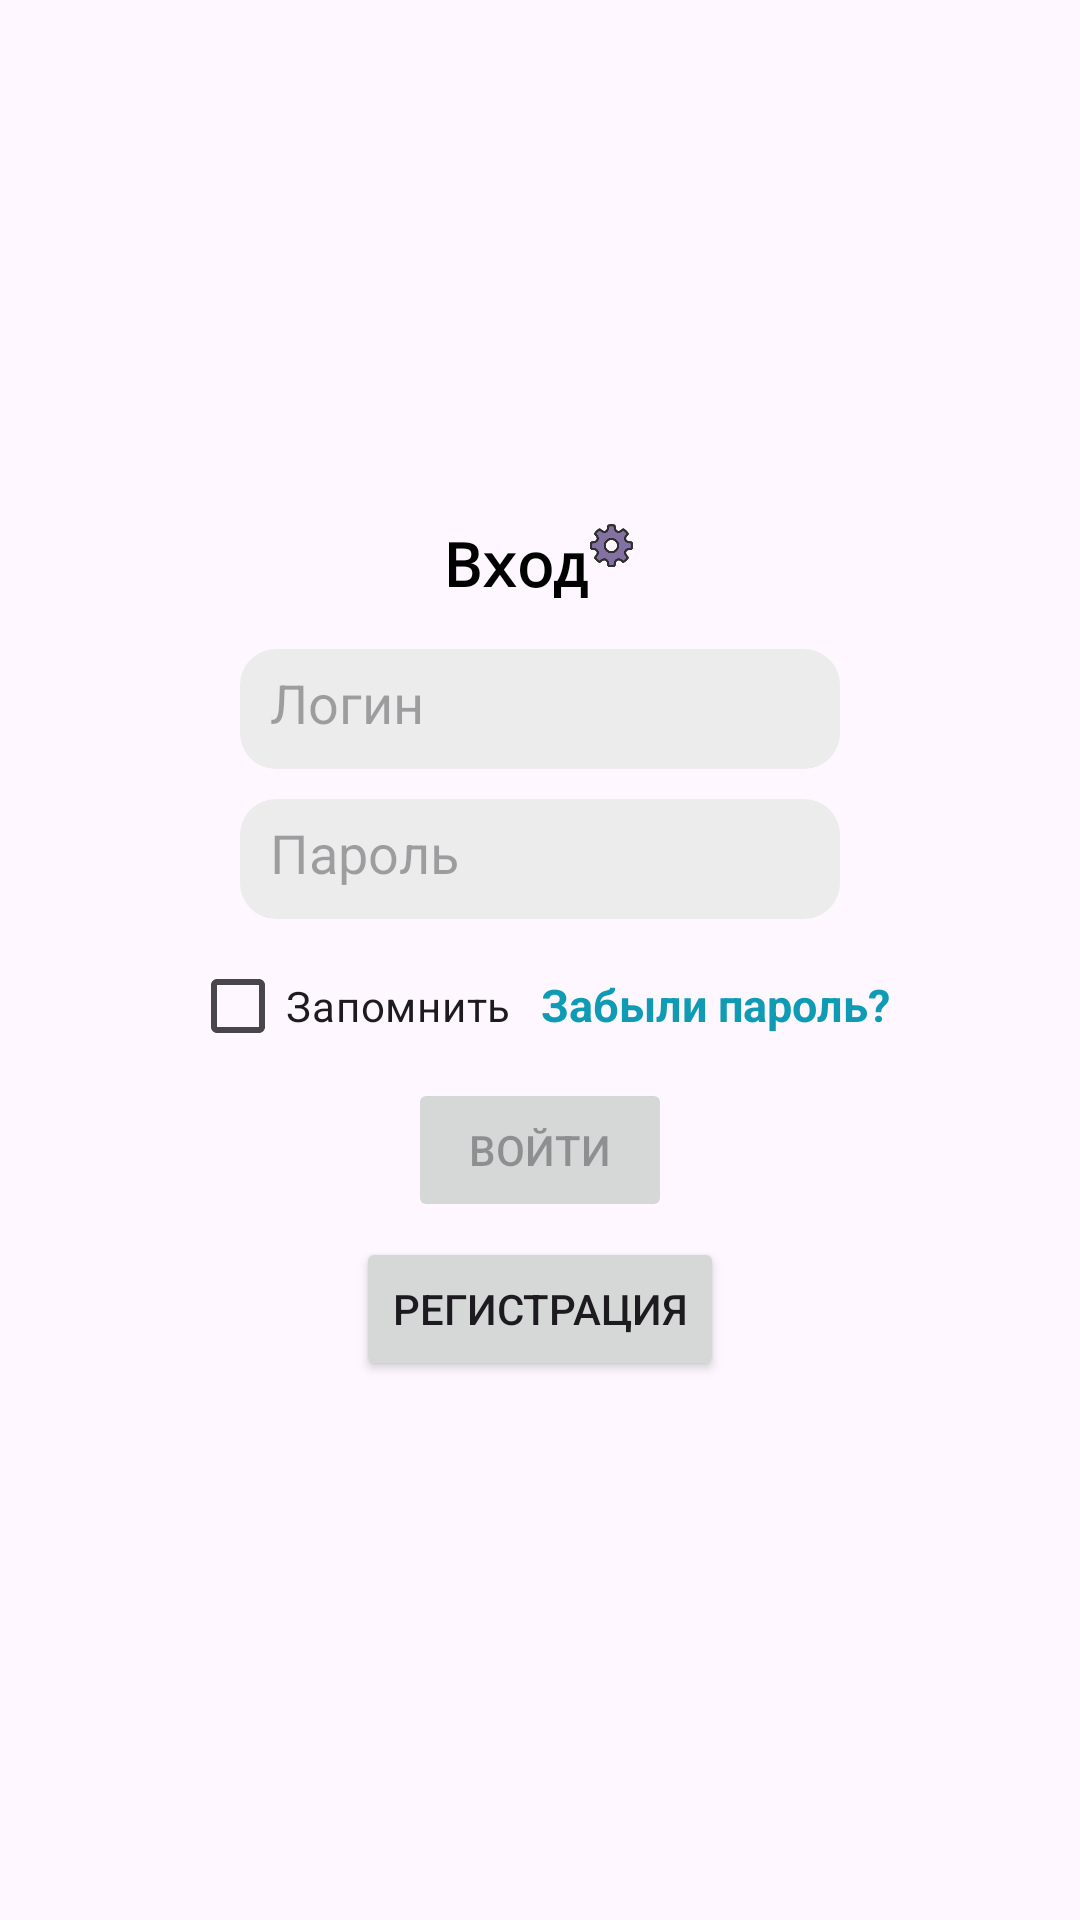

Where to tap for icons on this 1080x1920 app screen, as point (x, y):
settings: point (611, 545)
